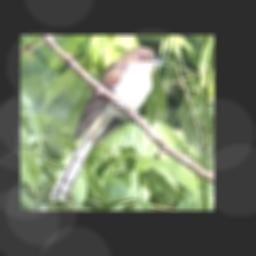Cuckoo: (50, 47, 166, 204)
